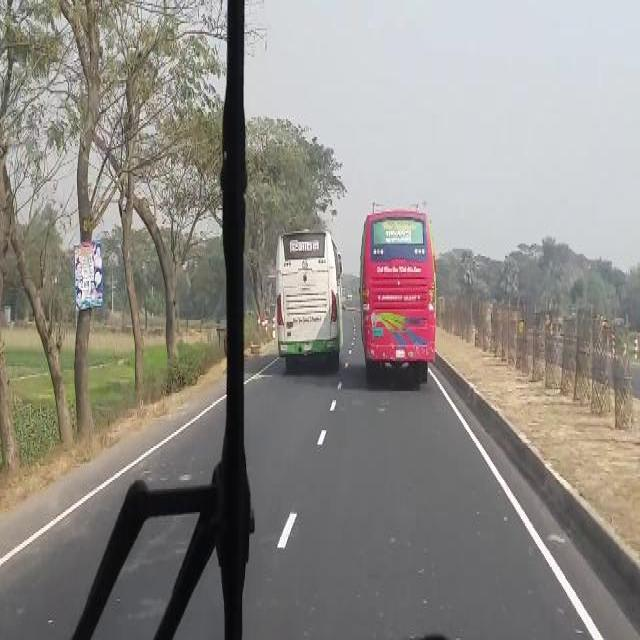Truck: (362, 207, 436, 380), (273, 226, 341, 361)
